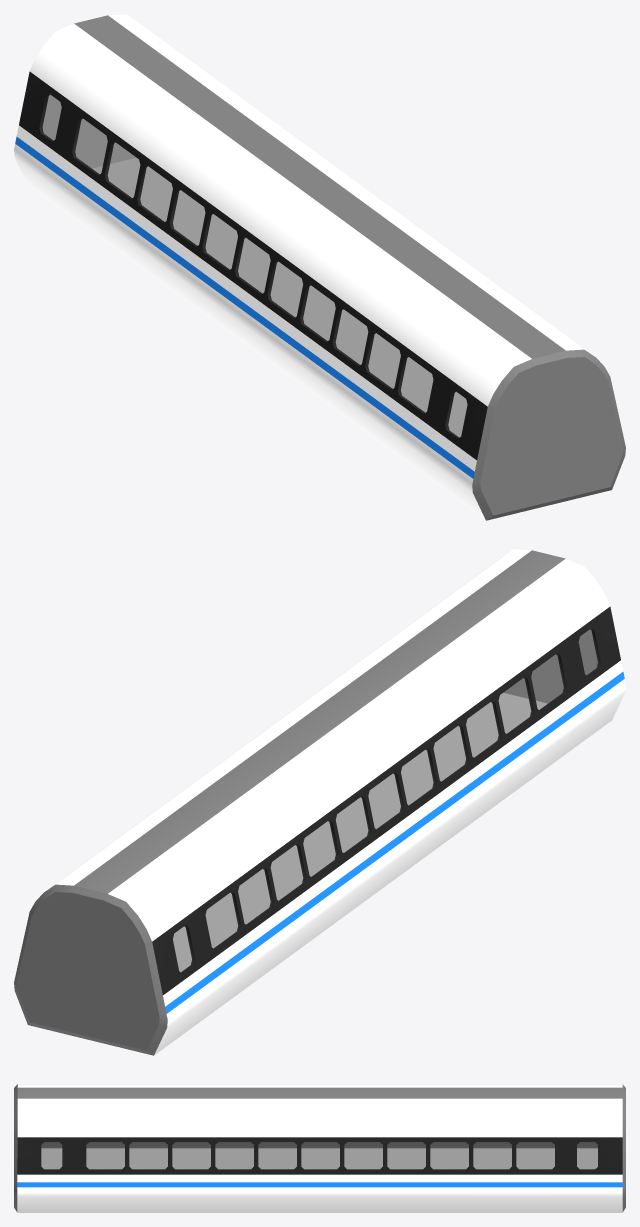
File: train_body_001.glb
The picture shows the model from 3 angles, top to bottom: view 1: azimuth 30°, elevation 25°; view 2: azimuth 150°, elevation 25°; view 3: azimuth 270°, elevation 25°; orthographic projection. The views are drawn at different scales.
Parts seen in each view (by area): view 1: train_body_001; view 2: train_body_001; view 3: train_body_001.
Part boxes in pixels (x1,y1,x2,y2): train_body_001: (14,14,625,520); train_body_001: (14,549,625,1055); train_body_001: (14,1084,625,1212).
Bounding box in the file's own units: 3.73 × 3.49 × 19.49.
Materials: 2 (2 with a texture image).
